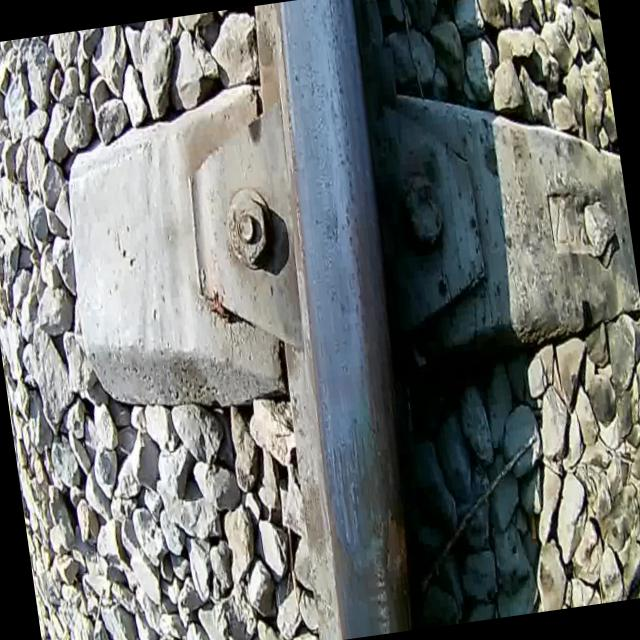Squats: (312, 416, 391, 575), (374, 504, 419, 588)
